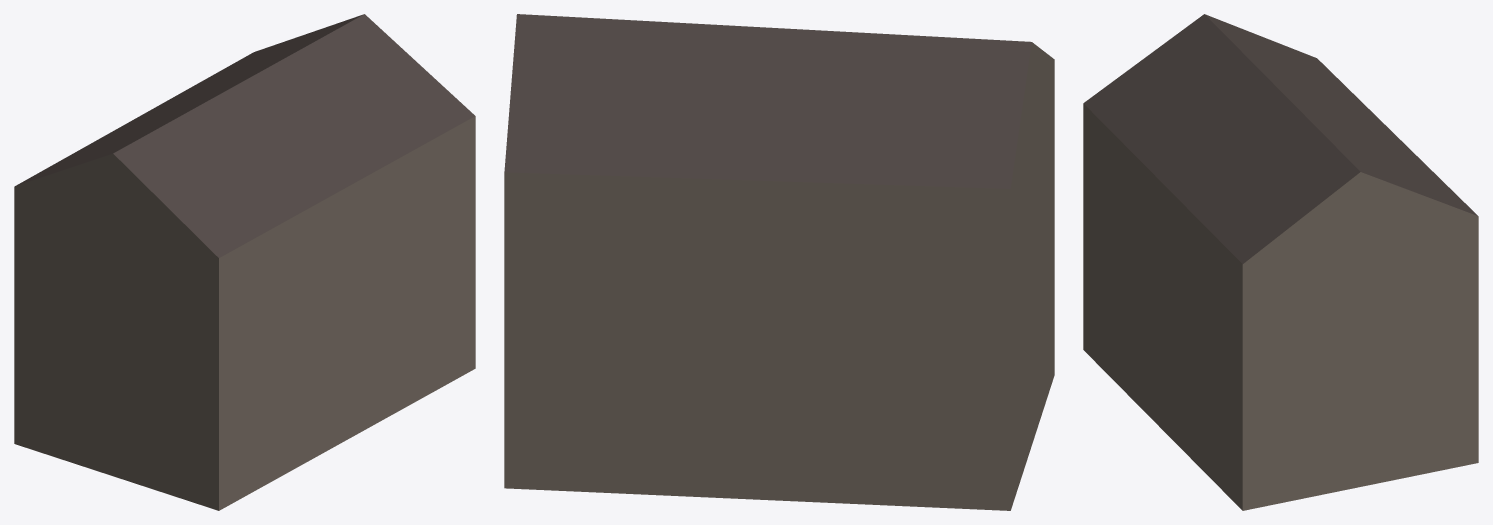
3 renders of one model, left to right at view 1: azimuth 30°, elevation 25°; view 2: azimuth 150°, elevation 25°; view 3: azimuth 270°, elevation 25°, orthographic. The views are drawn at different scales.
Parts seen in each view (by area): view 1: HP-w776801021; view 2: HP-w776801021; view 3: HP-w776801021.
Boxes of the visible parts, bbox=[...] form: HP-w776801021: bbox=[14, 14, 475, 510]; HP-w776801021: bbox=[504, 14, 1054, 510]; HP-w776801021: bbox=[1083, 14, 1478, 510].
Bounding box in the file's own units: 10.51 × 7.66 × 8.71.
